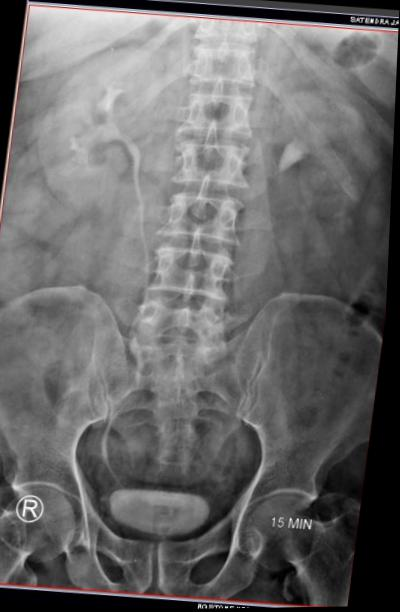bladder: (99, 483, 221, 548)
left kidney: (253, 73, 396, 272)
right kidney: (20, 28, 173, 221)
vertebrae: (179, 86, 259, 138)
